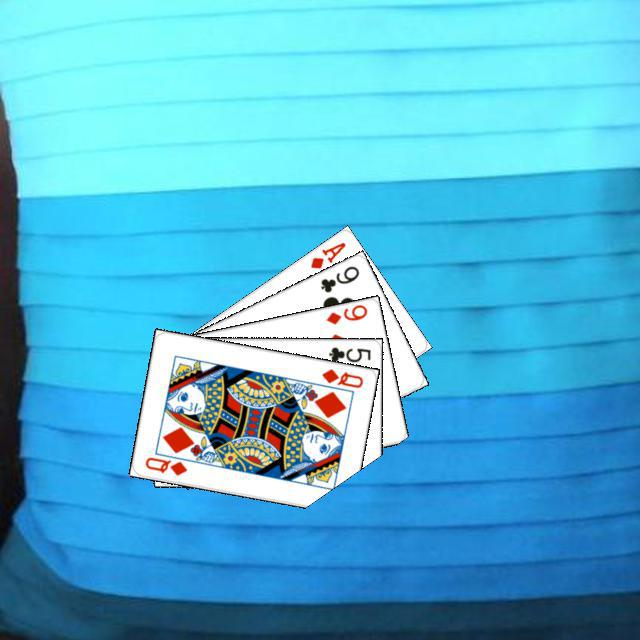5c: (324, 342, 372, 363)
9c: (315, 261, 361, 294)
9d: (321, 300, 369, 326)
Ad: (305, 237, 348, 271)
Qd: (317, 364, 365, 390), (140, 452, 189, 477)
